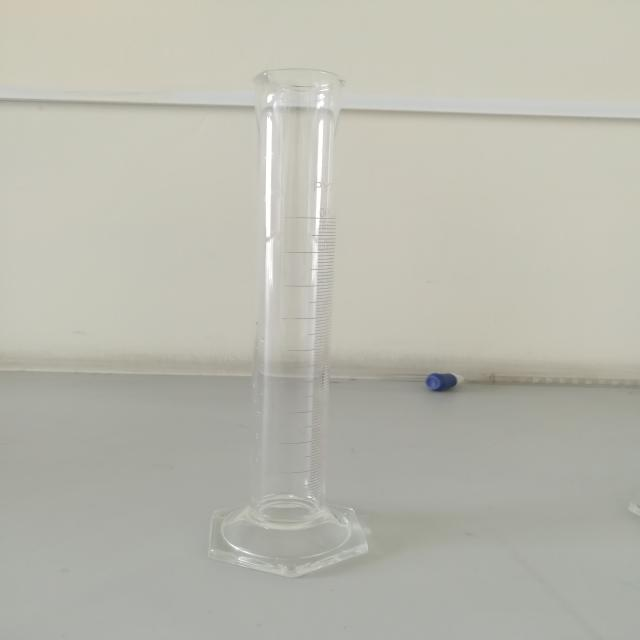Measuring_Cylinder: (179, 28, 409, 599)
